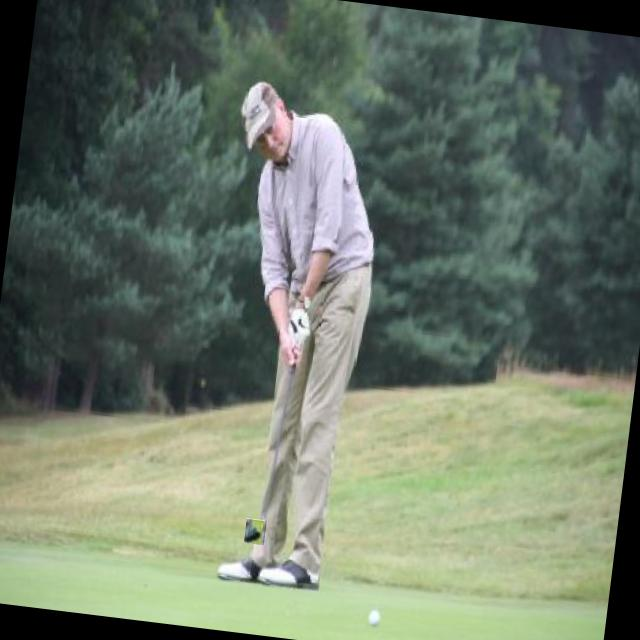club head: (244, 518, 267, 544)
